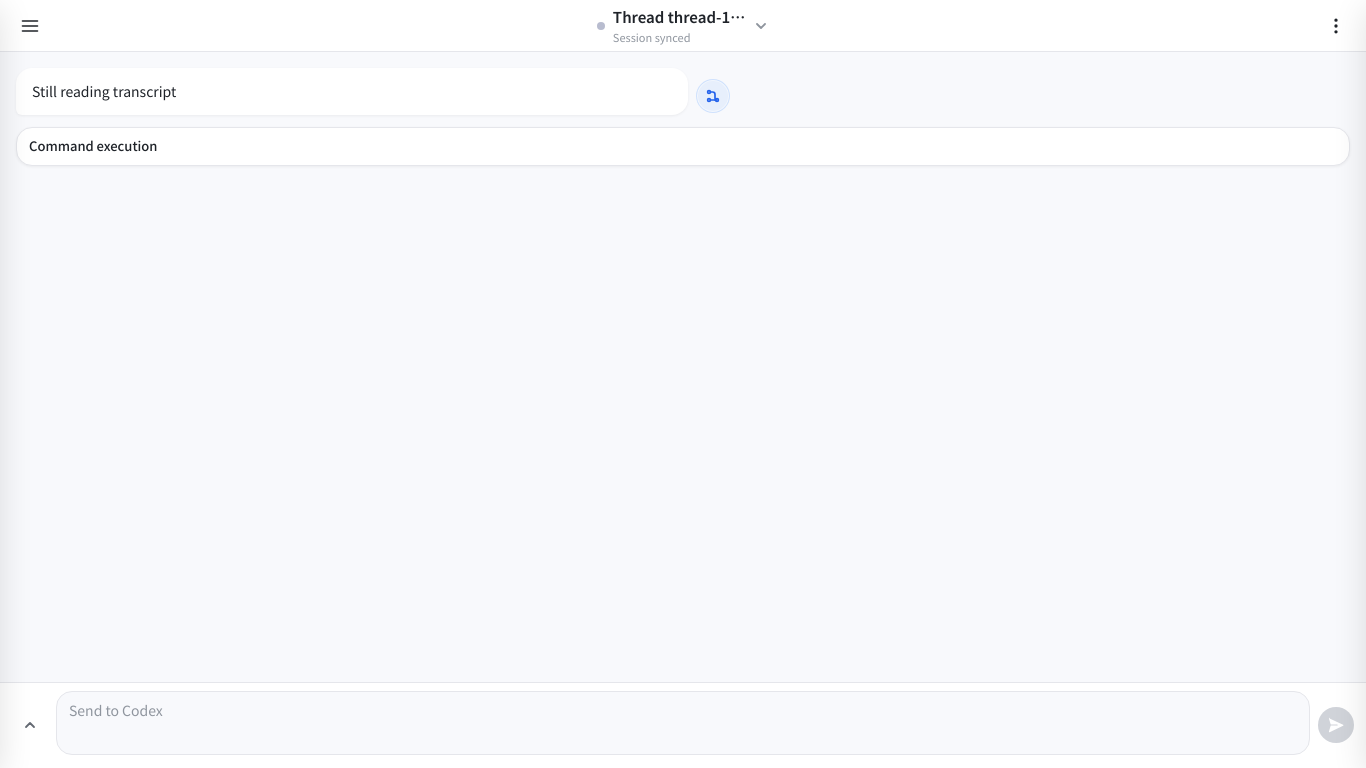
Scenario: ChatTranscript lazy content error integration › retries the failed detail load from the affected card without disturbing the rest of the transcript
What coordinates should you click on to do the following:
click the heading "Command execution"
I would click on:
 (93, 146)
Its box is [29,136,157,155].
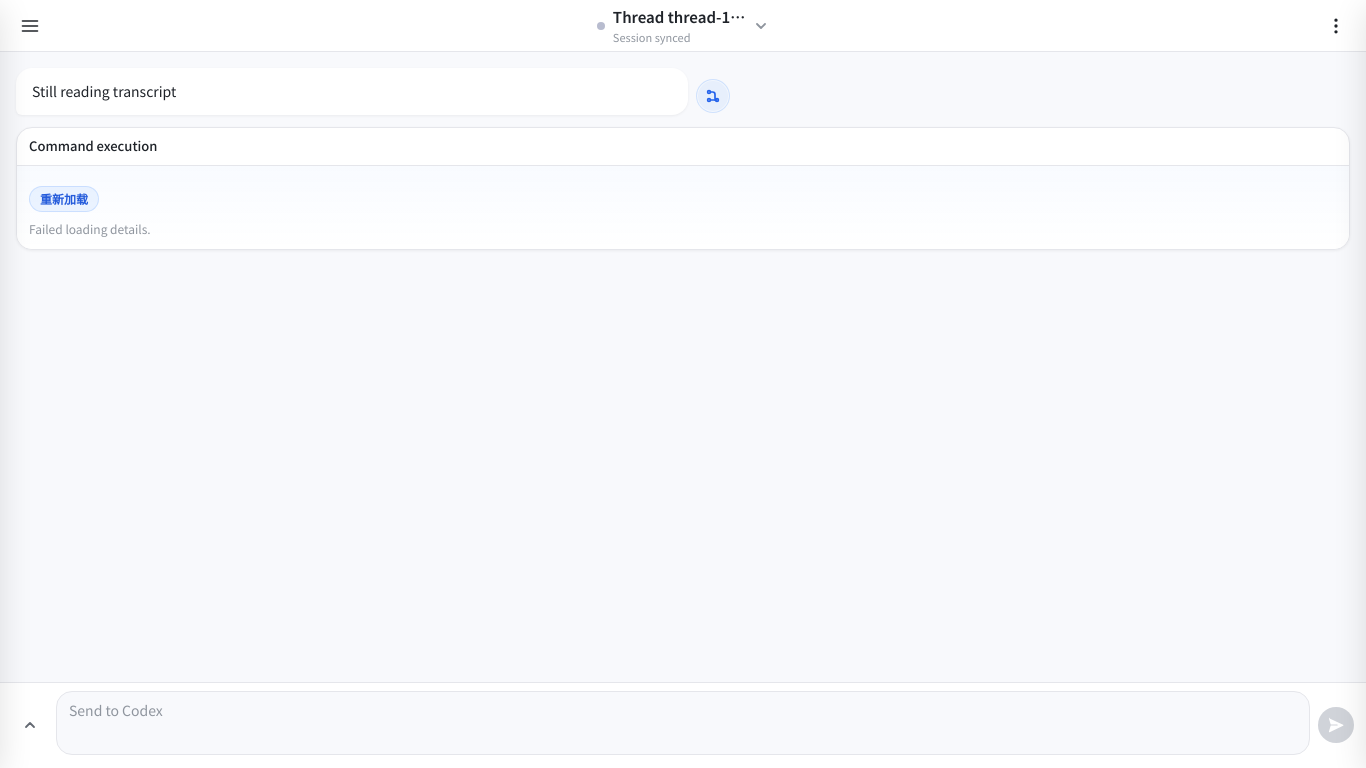
Check: the text "Failed loading details." is shown, box [29,220,151,237]
What coordinates should you click on to do the following:
click the button with aria-label "Reload details"
I would click on:
 (64, 199)
Its box is [29,186,99,212].
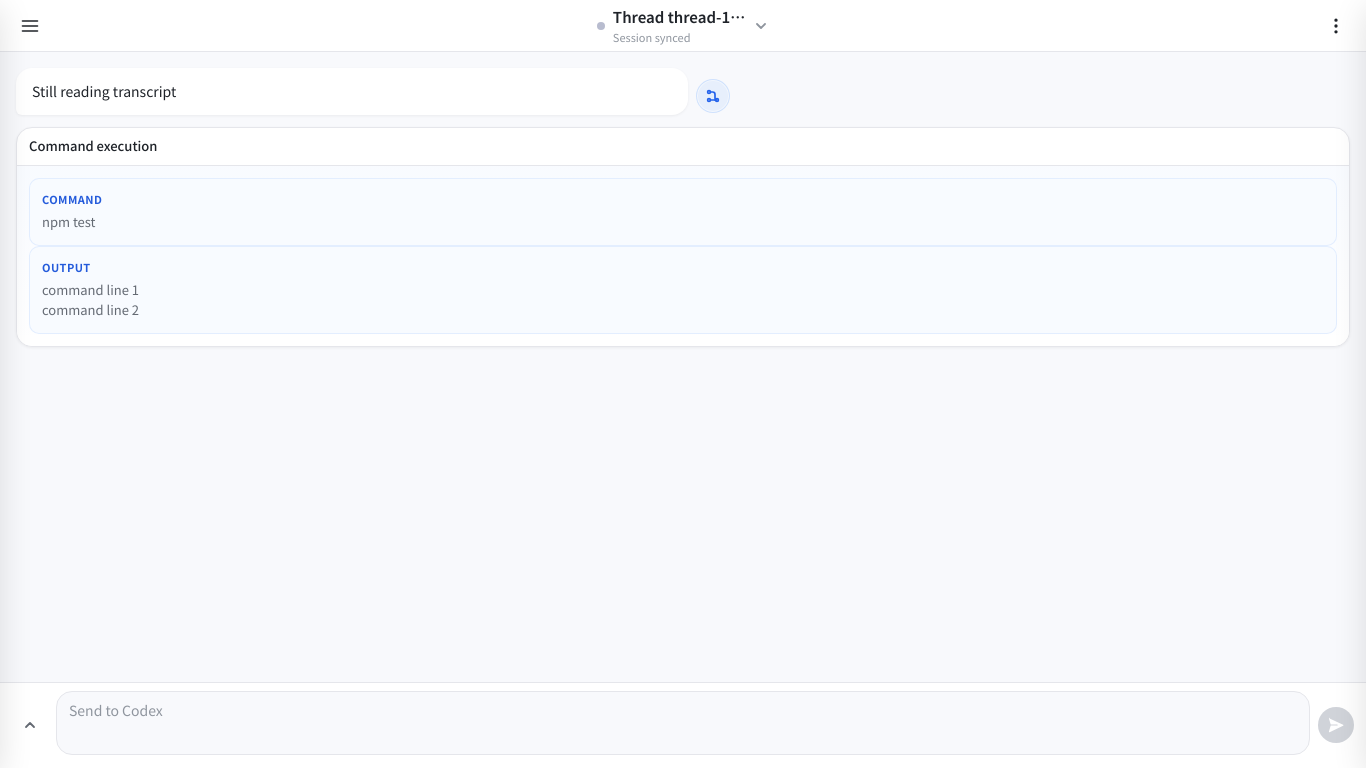
Check: the text "Still reading transcript" is shown, box [32,81,176,101]
Check: the text "Failed loading details." is gone
